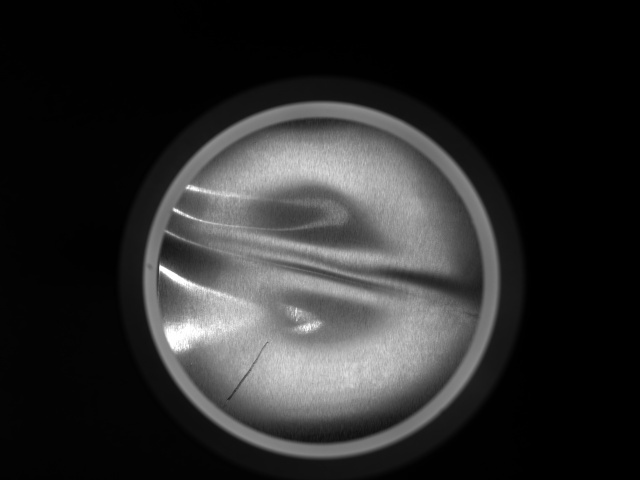ca_shang: (225, 334, 274, 402)
zhe_zhou: (202, 146, 448, 409)
